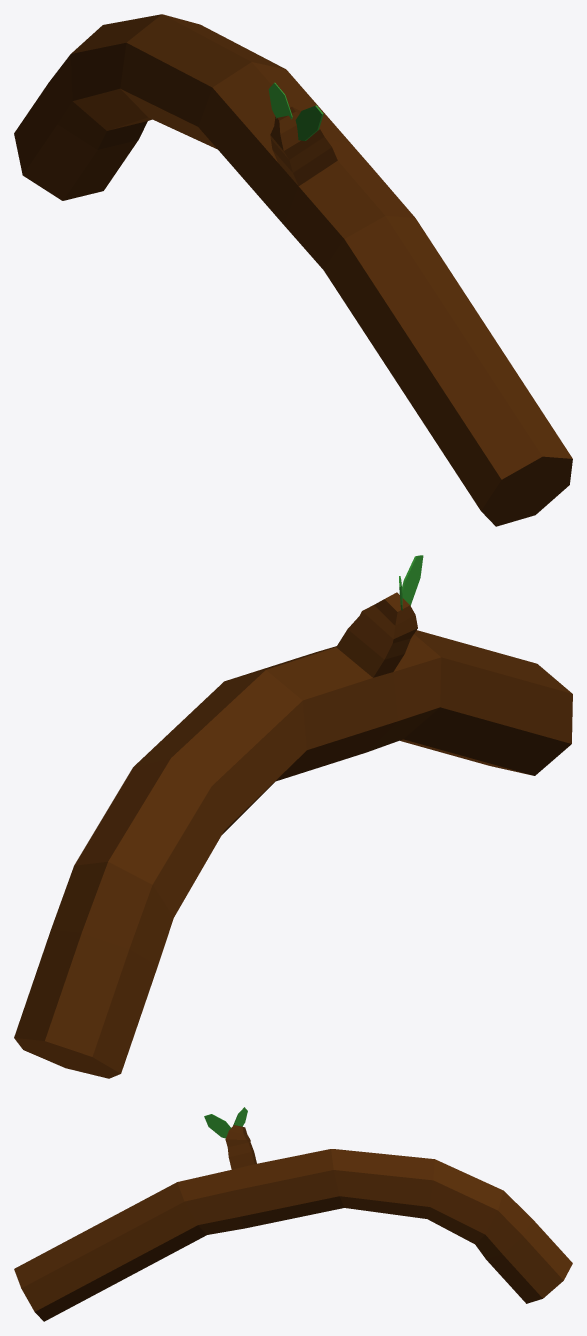
The model's file is Raiz1.fbx.
The picture shows the model from 3 angles, top to bottom: view 1: azimuth 30°, elevation 25°; view 2: azimuth 150°, elevation 25°; view 3: azimuth 270°, elevation 25°; orthographic projection. The views are drawn at different scales.
Visible parts, largest first — view 1: Cylinder; view 2: Cylinder; view 3: Cylinder.
Boxes of the visible parts, x1,y1,x2,y2 form: Cylinder: (14, 14, 572, 526); Cylinder: (14, 555, 572, 1078); Cylinder: (14, 1107, 572, 1321).
Size of the model in its own units: 49.28 by 130 by 347.
